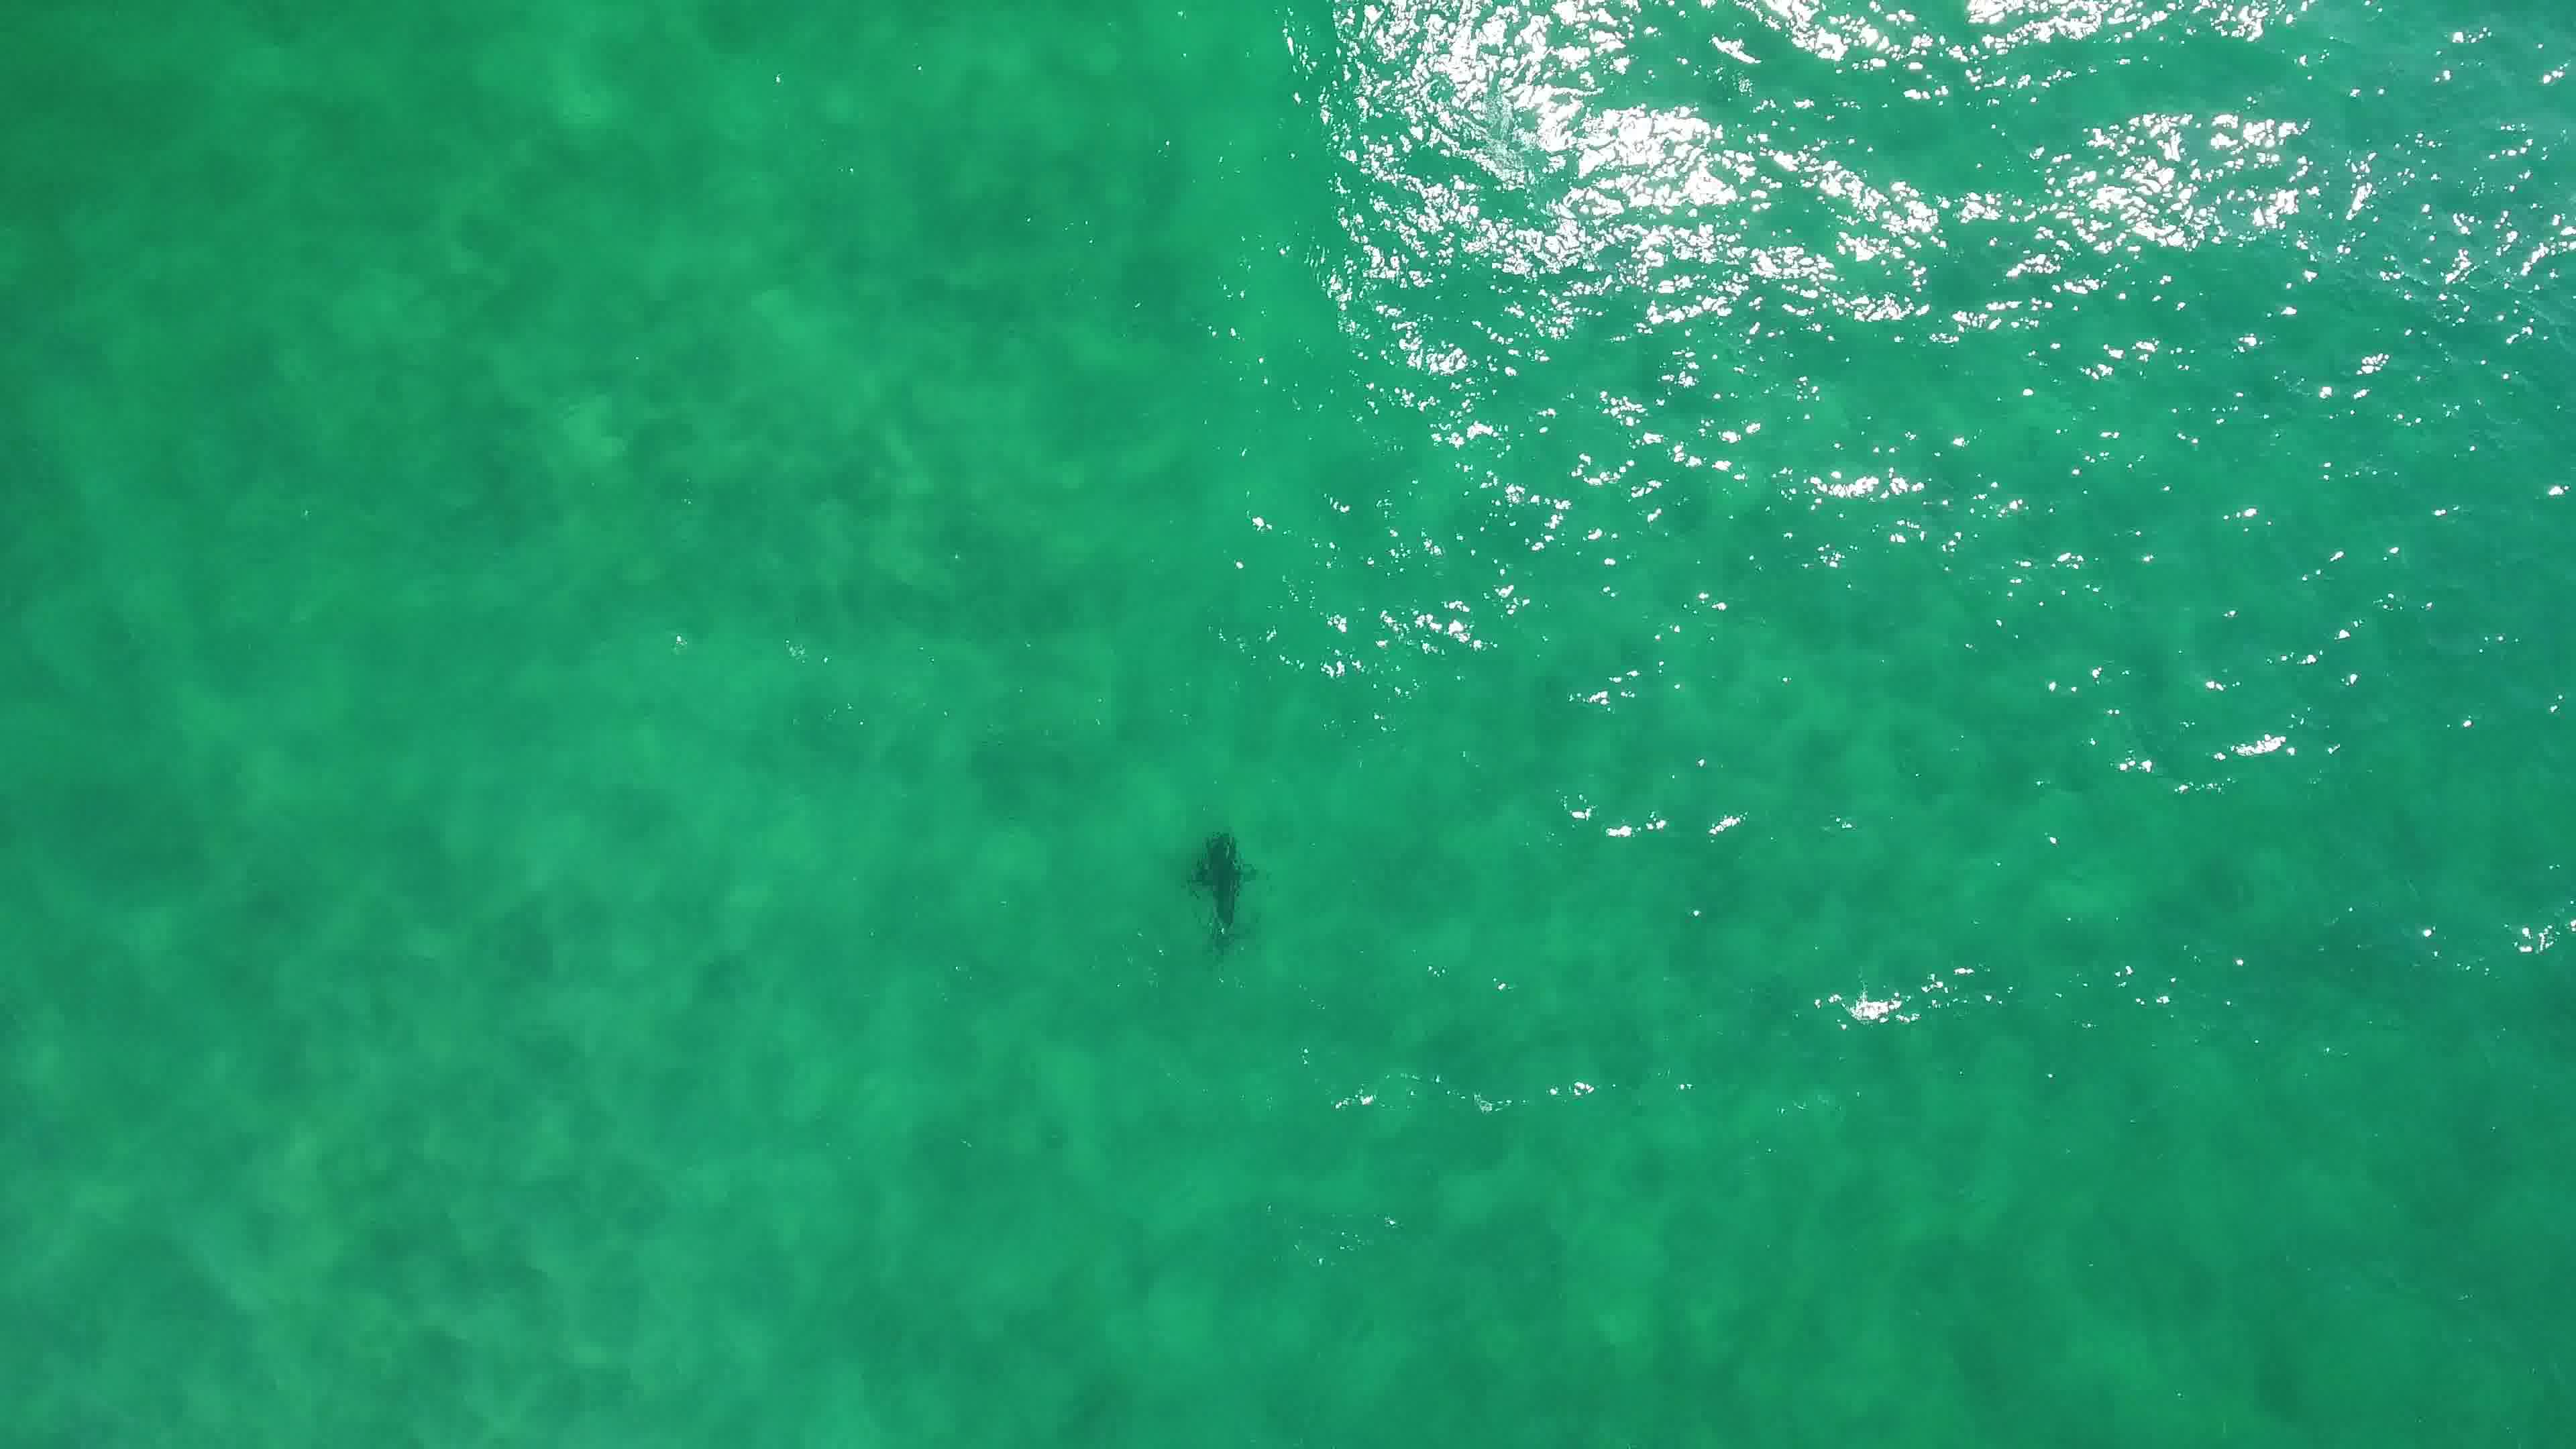shark: (1177, 824, 1270, 955)
